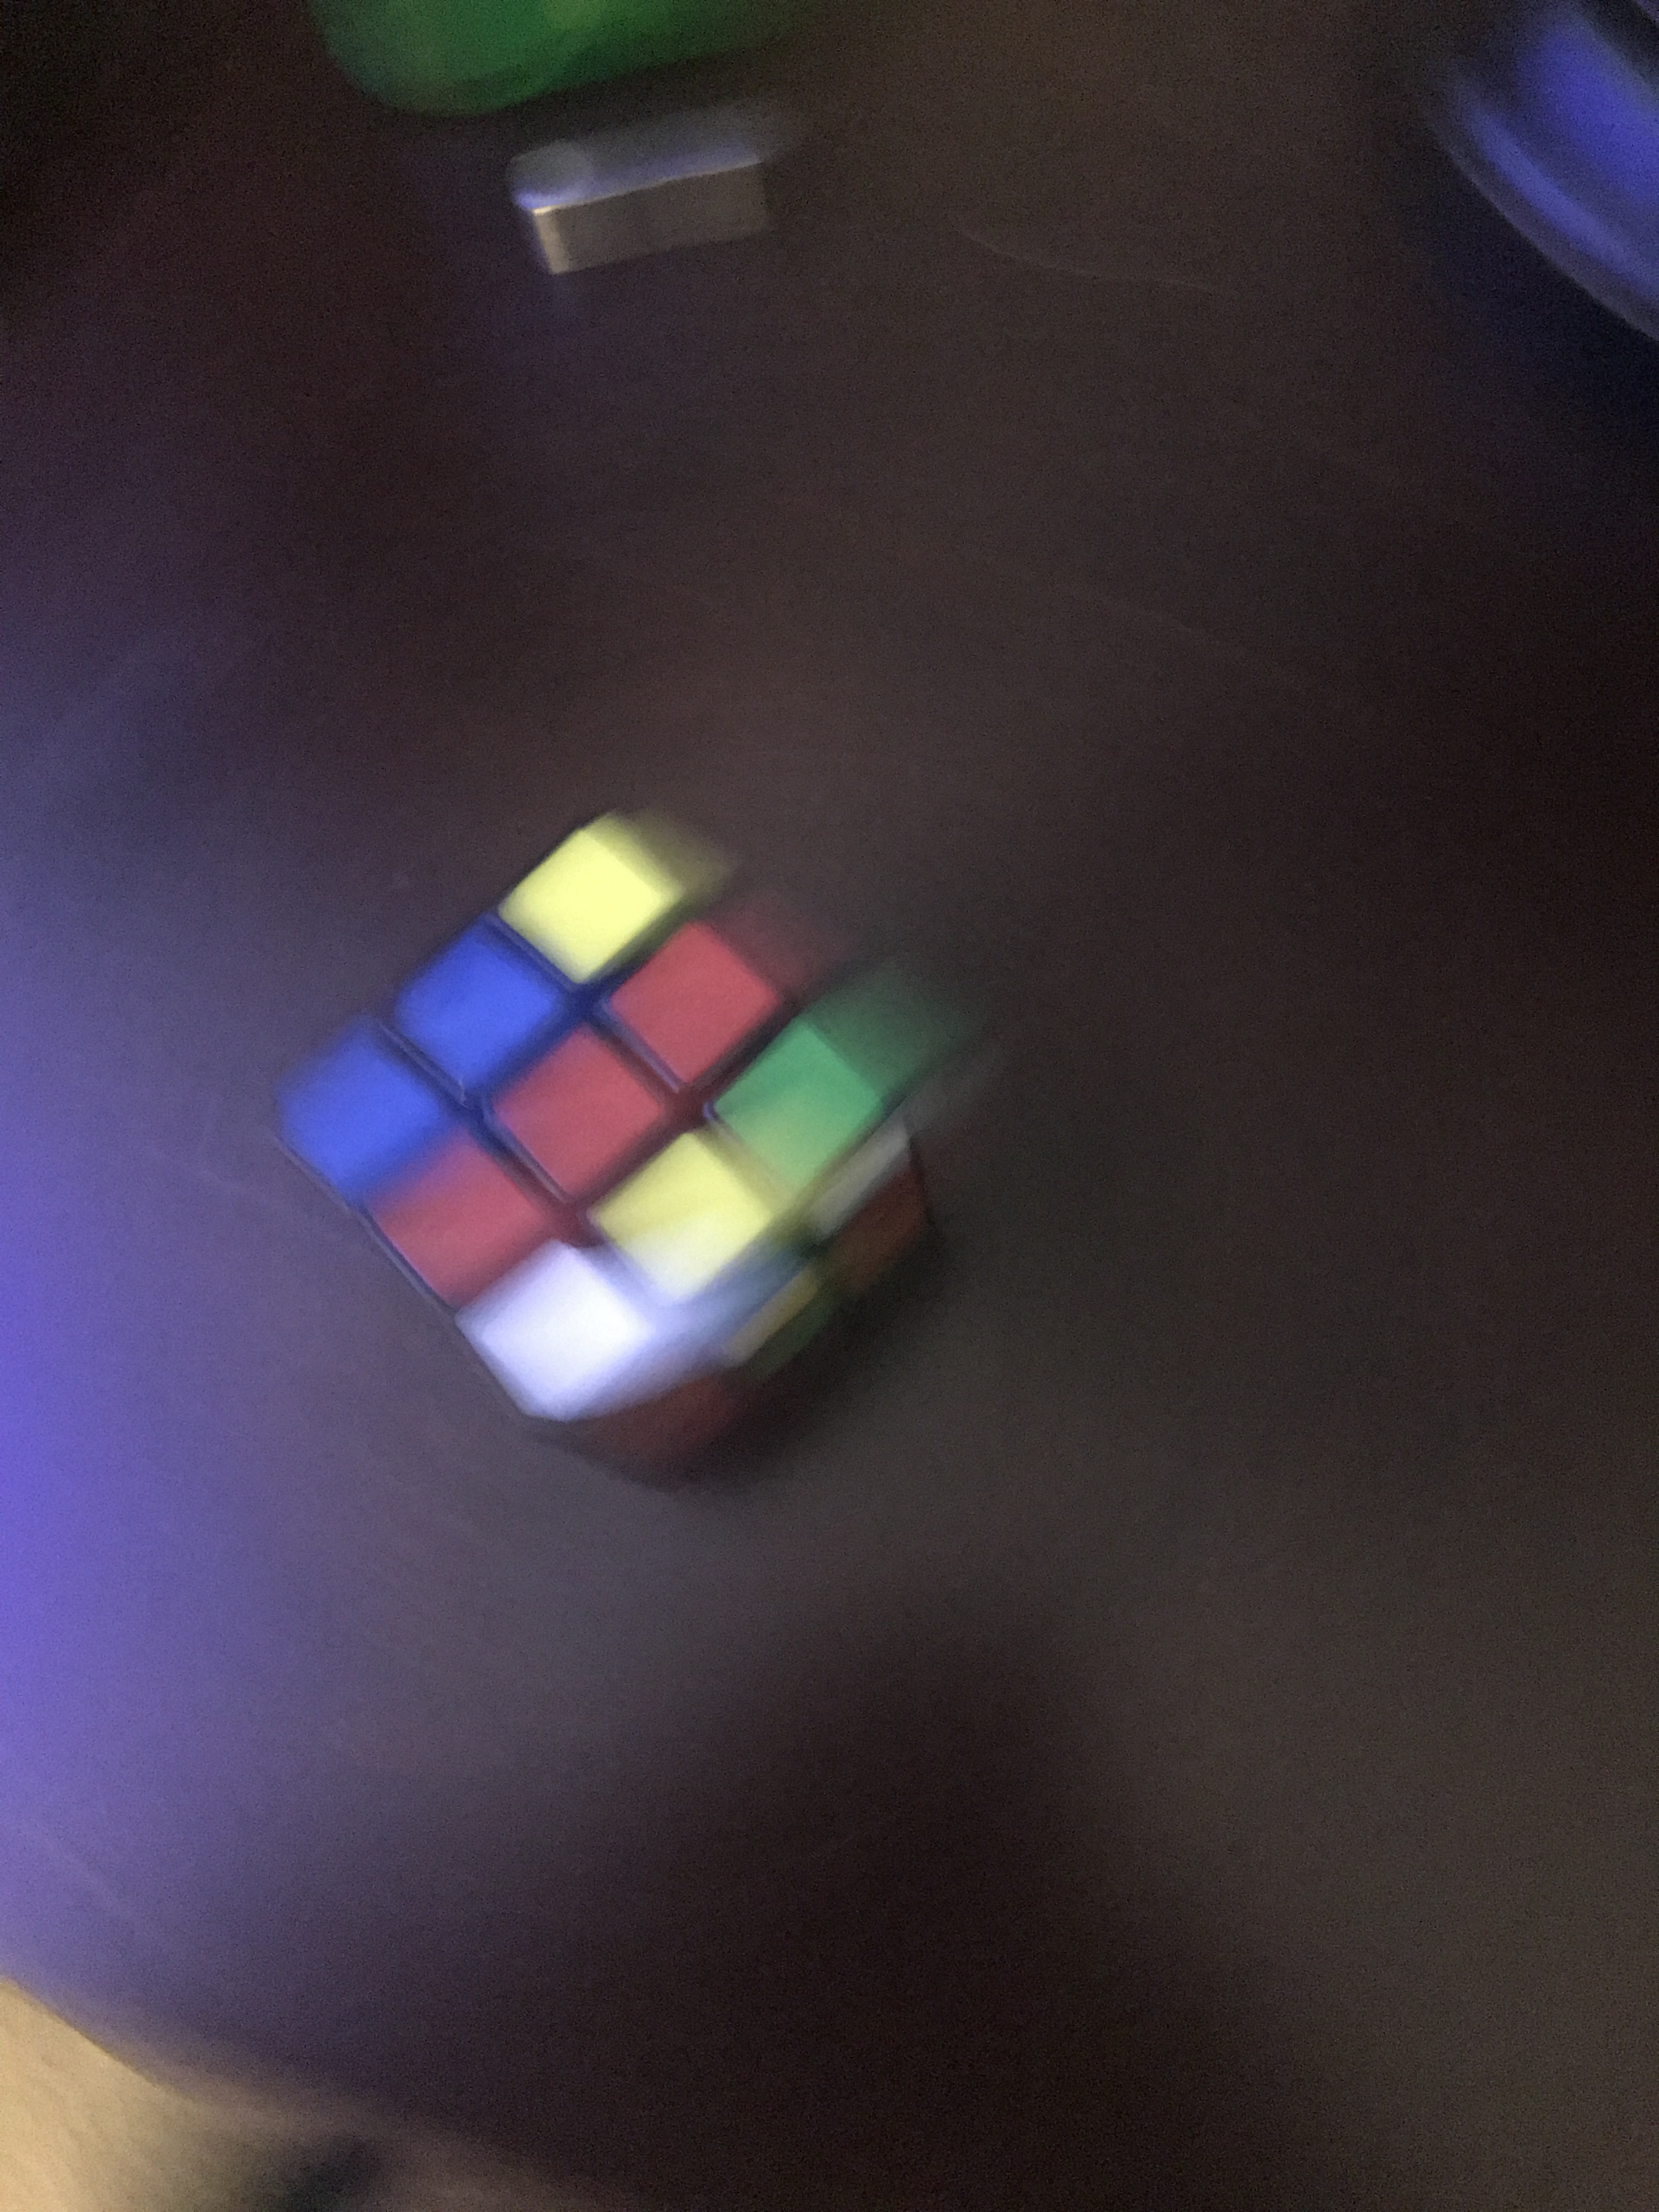rubiks: (263, 820, 938, 1510)
